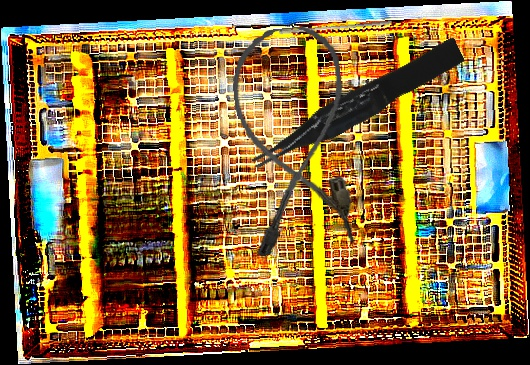Cannula: (227, 22, 359, 258)
Pusher: (278, 16, 393, 38)
Tissue Forceps: (242, 36, 470, 175)
